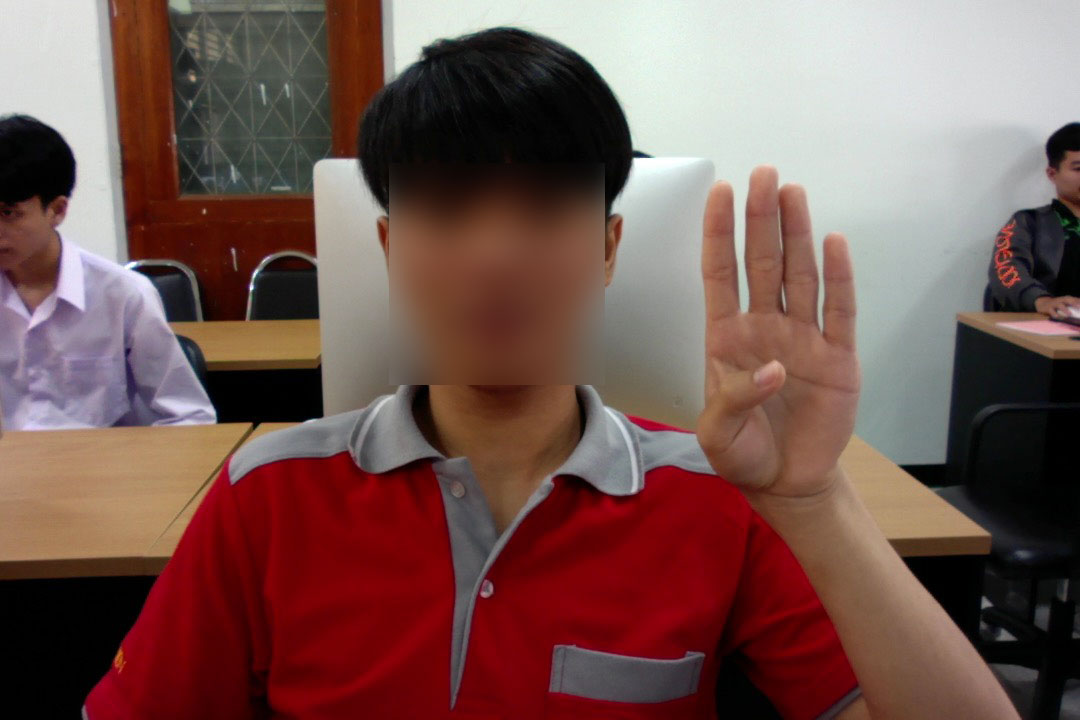bor: (692, 161, 868, 520)
